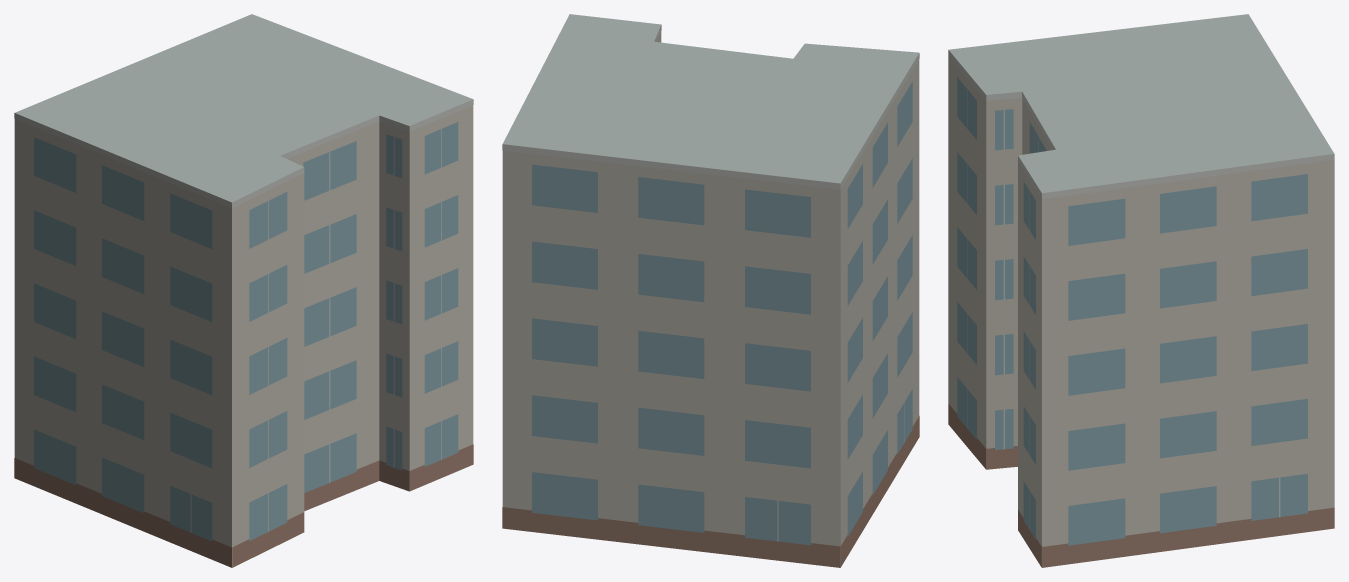
Rendered from survey-upis-32649300.glb.
3 views of the same model, side by side, from view 1: azimuth 30°, elevation 25°; view 2: azimuth 150°, elevation 25°; view 3: azimuth 270°, elevation 25° (orthographic). The views are drawn at different scales.
Visible parts, largest first — view 1: survey-upis-32649300.tmp; view 2: survey-upis-32649300.tmp; view 3: survey-upis-32649300.tmp.
Part boxes in pixels (<box>): survey-upis-32649300.tmp: <box>14,14,473,567</box>; survey-upis-32649300.tmp: <box>502,14,919,567</box>; survey-upis-32649300.tmp: <box>948,14,1334,567</box>.
Bounding box in the file's own units: 15.66 × 15.25 × 14.25.
